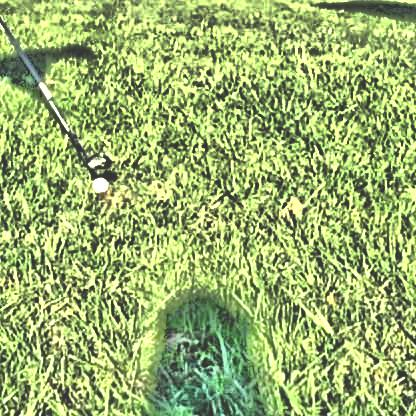golfball: (89, 172, 108, 191)
